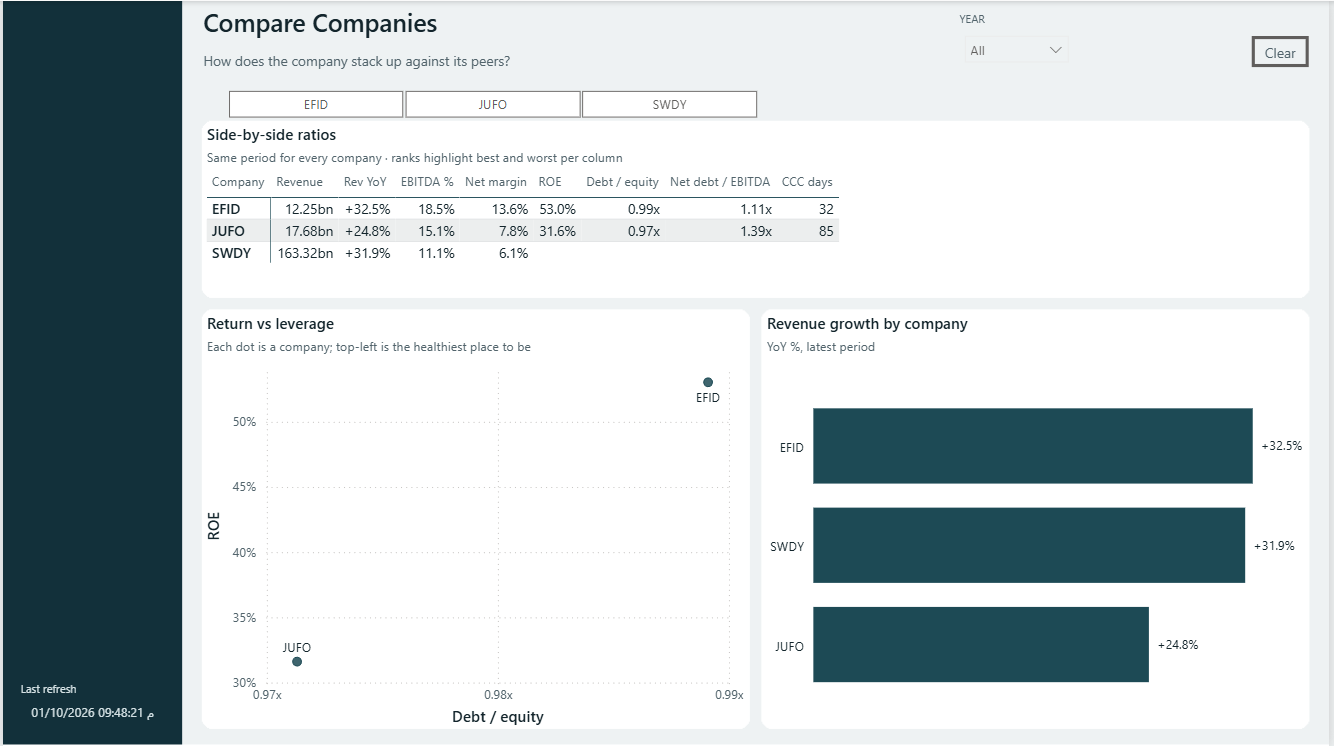

What the dashboard file says about the page in this screenshot:
{"tool":"powerbi","page":{"name":"Compare Companies","canvas":[1280,720],"ordinal":5},"visuals":[{"type":"pivotTable","title":"Side-by-side ratios","fields":{"Rows":["FactFinancials.Company"],"Values":["Measures List.Revenue (card)","Measures List.Revenue YOY% (card)","Measures List.EBITDA Margin % (card)","Measures List.Net Income Margin % (card)","Measures List.ROE (annualised) (card)","Measures List.Debt to Equity (card)","Measures List.Net Debt / EBITDA (card)","Measures List.CCC (card)"]},"box":[192,118,1068,170],"z":20},{"type":"scatterChart","title":"Return vs leverage","fields":{"Category":["FactFinancials.Company"],"X":["Measures List.Debt to Equity (card)"],"Y":["Measures List.ROE (annualised) (card)"]},"box":[192,300,528,404],"z":21},{"type":"barChart","title":"Revenue growth by company","fields":{"Category":["FactFinancials.Company"],"Y":["Measures List.Revenue YOY% (card)"]},"box":[732,300,528,404],"z":22},{"type":"pageNavigator","box":[12,38,150,270],"z":50},{"type":"card","title":"Last refresh","fields":{"Values":["Max(Last Refreash.Date)"]},"box":[12,656,150,52],"z":51},{"type":"textbox","box":[188,0,540,46],"z":52},{"type":"textbox","box":[188,44,540,30],"z":53},{"type":"slicer","title":"YEAR","fields":{"Values":["DimDate.Year"]},"box":[918,10,120,56],"z":55},{"type":"actionButton","box":[1205,34,55,30],"z":56},{"type":"slicer","fields":{"Values":["FactFinancials.Company"]},"box":[192,80,560,34],"z":57}]}

Visuals, with their boxes in screenshot pixels (x1, y1, x2, y2), scaled from the page's 1280x720 canvas onto the 1334x746 screenshot:
"Side-by-side ratios" pivotTable: [200, 122, 1313, 298]
"Return vs leverage" scatterChart: [200, 311, 750, 729]
"Revenue growth by company" barChart: [763, 311, 1313, 729]
pageNavigator: [13, 39, 169, 319]
"Last refresh" card: [13, 680, 169, 734]
textbox: [196, 0, 759, 48]
textbox: [196, 46, 759, 77]
"YEAR" slicer: [957, 10, 1082, 68]
actionButton: [1256, 35, 1313, 66]
slicer - FactFinancials.Company: [200, 83, 784, 118]
